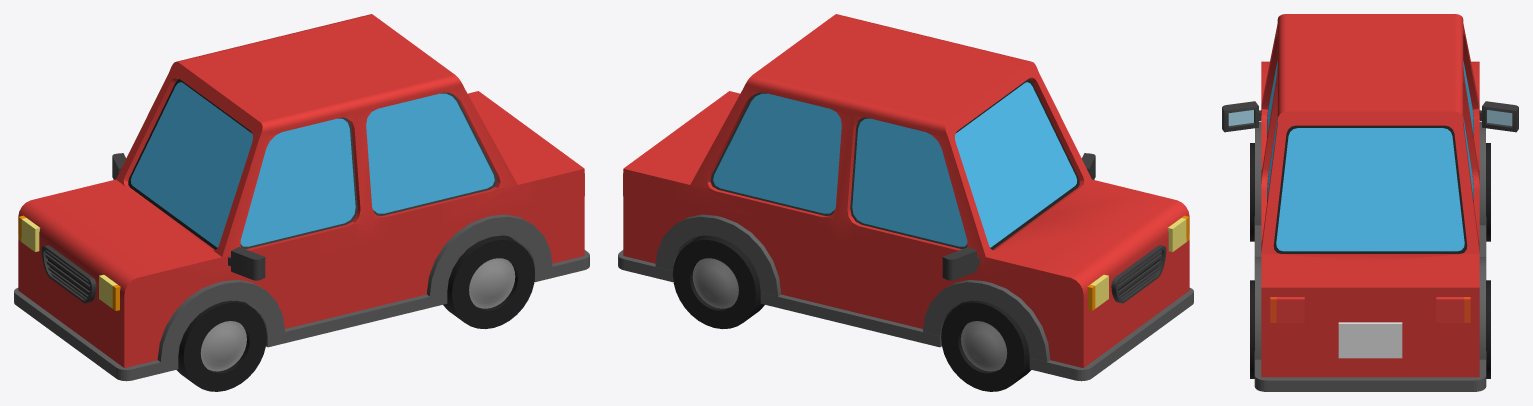
Rendered from automobile.glb.
The picture shows the model from 3 angles, left to right: view 1: azimuth 30°, elevation 25°; view 2: azimuth 150°, elevation 25°; view 3: azimuth 270°, elevation 25°; orthographic projection. The views are drawn at different scales.
Visible parts, largest first — view 1: Cube.686; view 2: Cube.686; view 3: Cube.686.
Part boxes in pixels (<box>): Cube.686: <box>14,14,589,391</box>; Cube.686: <box>618,14,1193,391</box>; Cube.686: <box>1222,14,1518,391</box>.
Size of the model in its own units: 2.17 by 1.08 by 1.15.
Materials: 1 (1 with a texture image).
